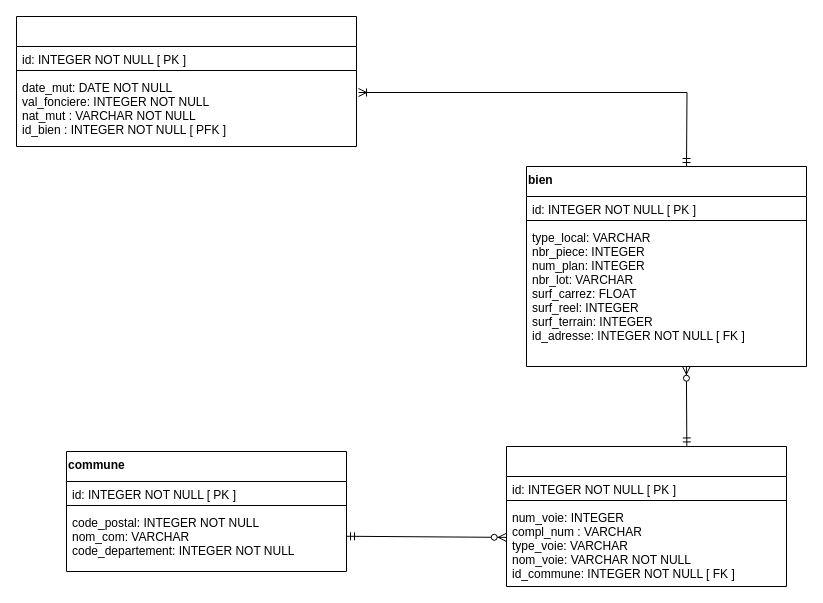
Some shapes in this 823 by 603 pixel diagram are drawn without their labels. Here are the shapes that lost their labels. From the top down, the box of each, then its label:
(16, 16, 356, 146): mutation
(506, 446, 786, 586): adresse
